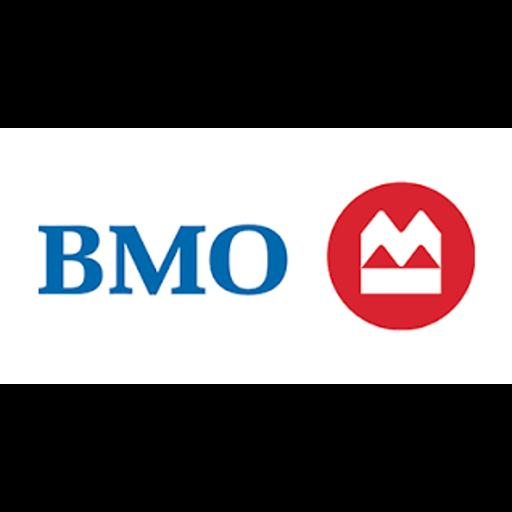Bank of Montreal: (0, 128, 512, 384)
